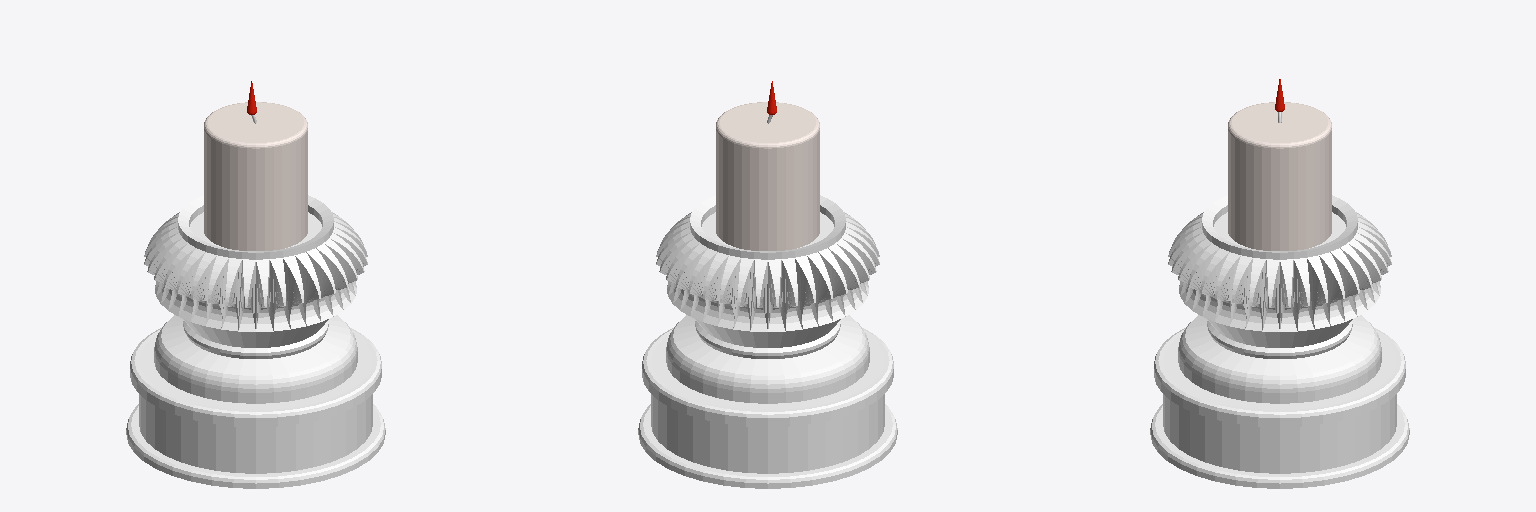
Rendered from candle.obj.
3 renders of one model, left to right at view 1: azimuth 30°, elevation 25°; view 2: azimuth 150°, elevation 25°; view 3: azimuth 270°, elevation 25°, orthographic.
Visible parts, largest first — view 1: 烛台, 蜡烛; view 2: 烛台, 蜡烛; view 3: 烛台, 蜡烛.
Boxes of the visible parts, x1=… form: 烛台: x1=126, y1=195, x2=385, y2=488; 蜡烛: x1=204, y1=102, x2=307, y2=250; 烛台: x1=638, y1=195, x2=897, y2=488; 蜡烛: x1=716, y1=102, x2=819, y2=250; 烛台: x1=1150, y1=195, x2=1409, y2=488; 蜡烛: x1=1228, y1=102, x2=1331, y2=250.
Bounding box in the file's own units: 44.91 × 68.06 × 44.91.